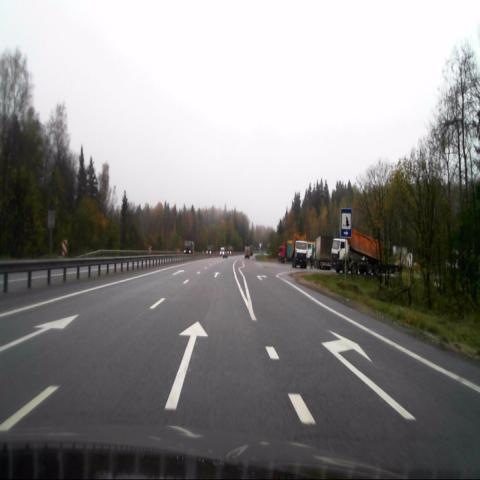7_11: (341, 210, 351, 238)
